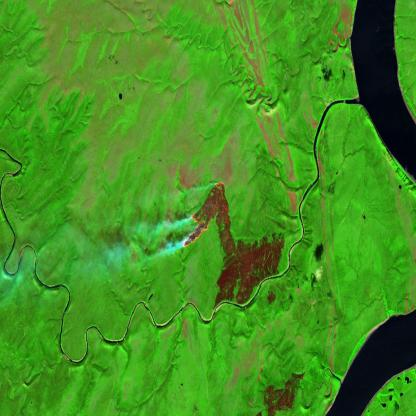fire: (180, 179, 230, 250)
